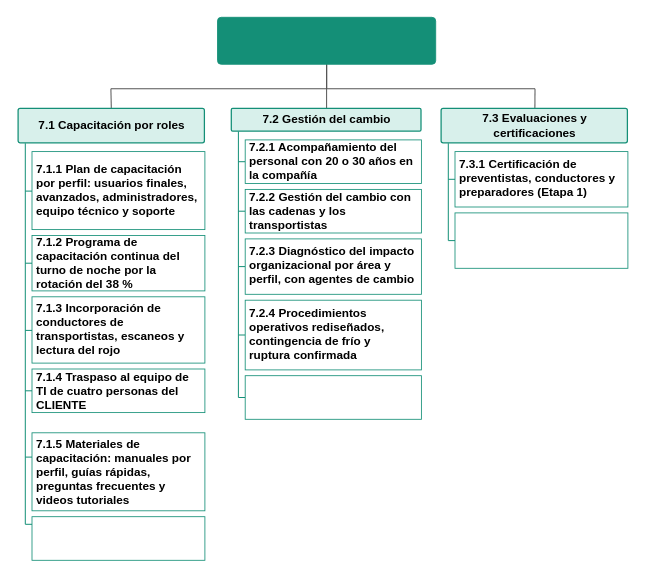
Some shapes in this 645 by 578 pixel diagram are drawn without their labels. Here are the shapes that lost their labels. From the top down, the centre of each, then its label:
(326,40): 7. Capacitación y gestión del cambio
(541,240): 7.3.2 Certificación de Comercial y Finanzas en costo de servir (Etapa 2)
(332,397): 7.2.5 Medición de la adopción y plan de acción correctiva
(118,538): 7.1.6 Plataforma de autoformación en línea con registro de avance
